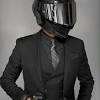helmet: (29, 0, 84, 37)
